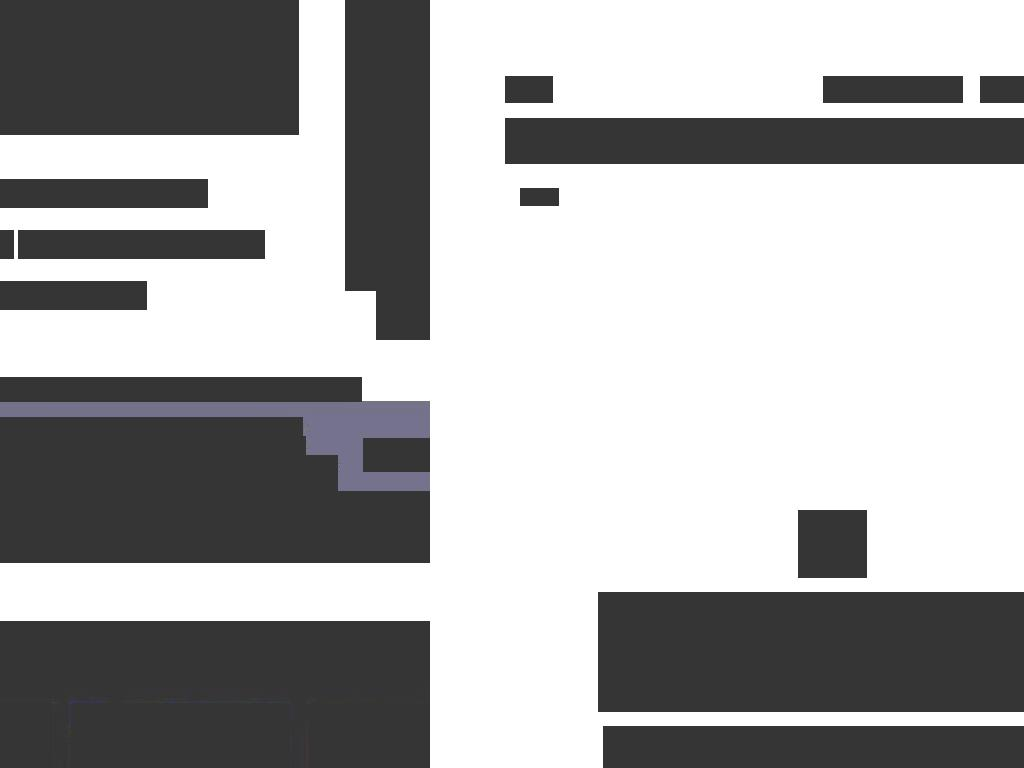button: (0, 377, 362, 402), (29, 449, 196, 491), (823, 76, 963, 103), (505, 76, 553, 103), (980, 76, 1024, 103), (0, 455, 44, 474)
field: (505, 118, 1024, 164)
heading: (598, 592, 1024, 712), (0, 0, 299, 135), (0, 621, 430, 686), (33, 0, 213, 63)
iframe: (0, 491, 430, 563)
image: (345, 0, 430, 291), (71, 703, 290, 768), (308, 703, 430, 768), (798, 510, 867, 578), (128, 380, 144, 395)
link: (63, 436, 109, 455)
text: (603, 726, 1024, 768), (0, 455, 338, 491), (0, 436, 306, 474), (0, 417, 303, 455), (18, 230, 265, 259), (0, 179, 208, 208), (0, 281, 147, 310), (0, 377, 113, 402), (363, 438, 430, 472), (832, 750, 889, 768), (520, 188, 559, 206)
